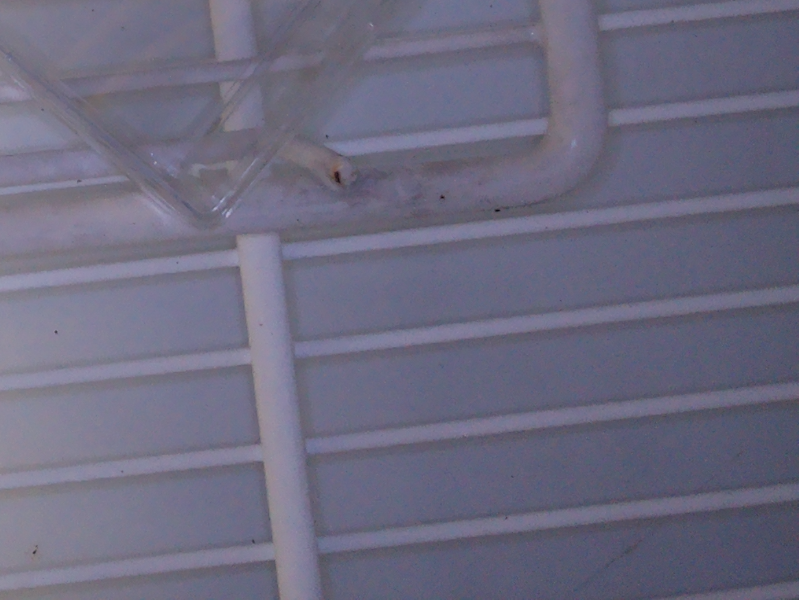plate: (1, 1, 394, 236)
